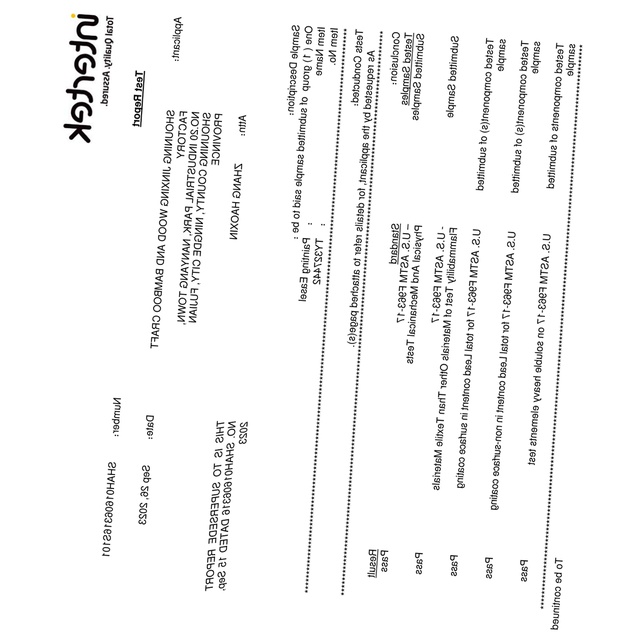intertek: (60, 8, 98, 151)
